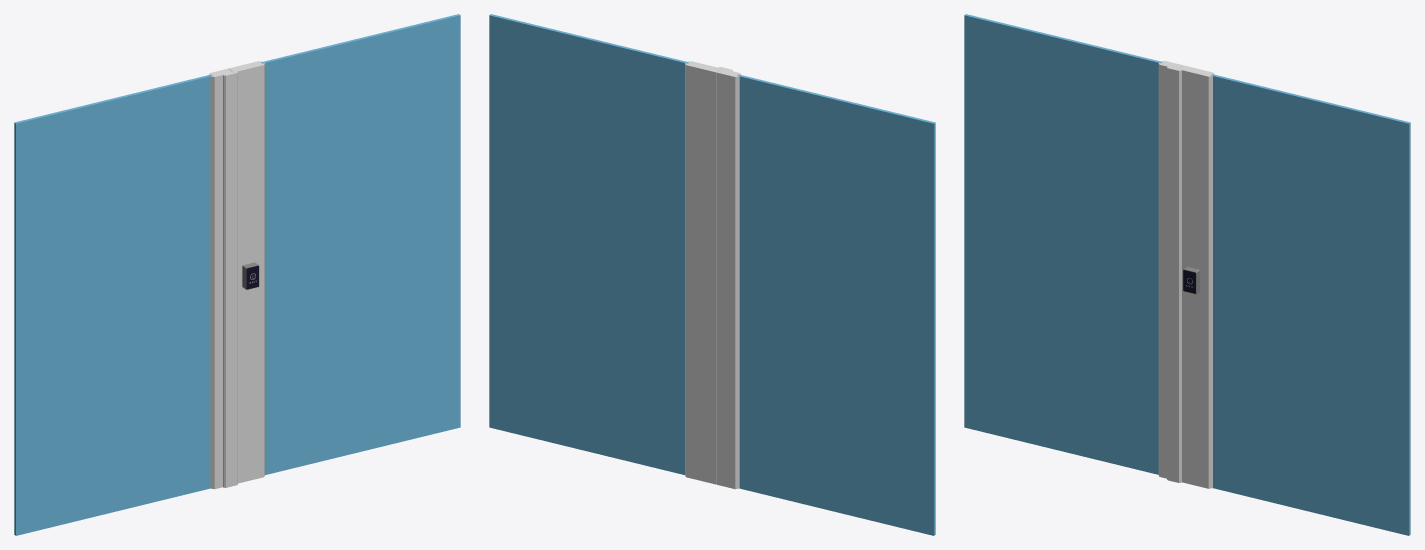
File: exit buton.fbx
3 views of the same model, side by side, from view 1: azimuth 30°, elevation 25°; view 2: azimuth 150°, elevation 25°; view 3: azimuth 330°, elevation 25° (orthographic).
Parts seen in each view (by area): view 1: Cube.002; view 2: Cube.002; view 3: Cube.002.
Boxes of the visible parts, x1,y1,x2,y2 form: Cube.002: [14, 14, 460, 535]; Cube.002: [489, 14, 935, 535]; Cube.002: [964, 14, 1410, 535].
Bounding box in the file's own units: 169 × 150 × 6.16.
